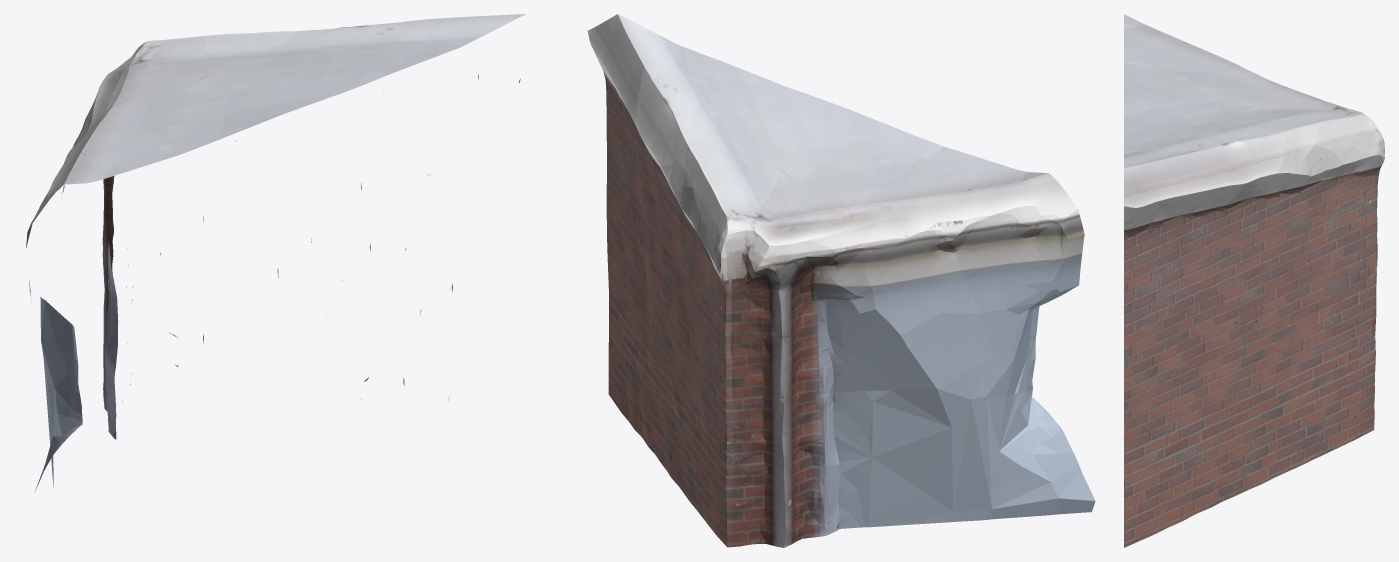
3 renders of one model, left to right at view 1: azimuth 30°, elevation 25°; view 2: azimuth 150°, elevation 25°; view 3: azimuth 270°, elevation 25°, orthographic. The views are drawn at different scales.
Bounding box in the file's own units: 4.09 × 2.94 × 1.85.
Materials: 1 (1 with a texture image).
